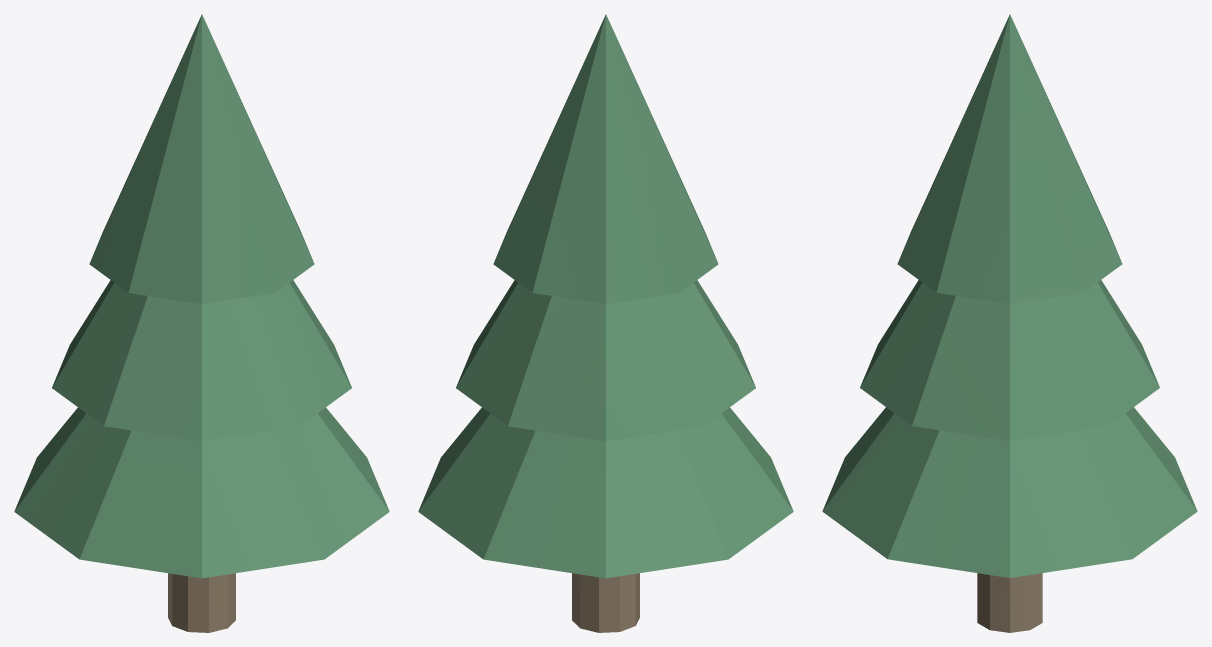
The model's file is pine-05.glb.
The picture shows the model from 3 angles, left to right: view 1: azimuth 30°, elevation 25°; view 2: azimuth 150°, elevation 25°; view 3: azimuth 270°, elevation 25°; orthographic projection.
Parts seen in each view (by area): view 1: world; view 2: world; view 3: world.
Part boxes in pixels (x1,y1,x2,y2): world: (14, 14, 389, 632); world: (418, 14, 793, 632); world: (822, 14, 1197, 632).
Size of the model in its own units: 0.9698 by 1.75 by 0.9848.
